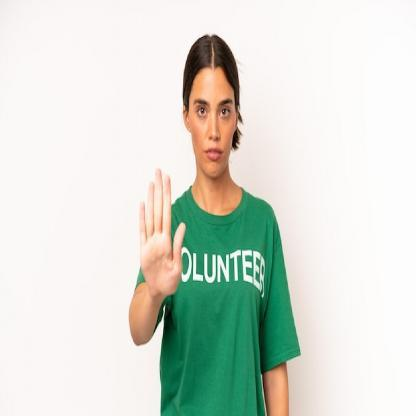stop: (136, 165, 188, 303)
